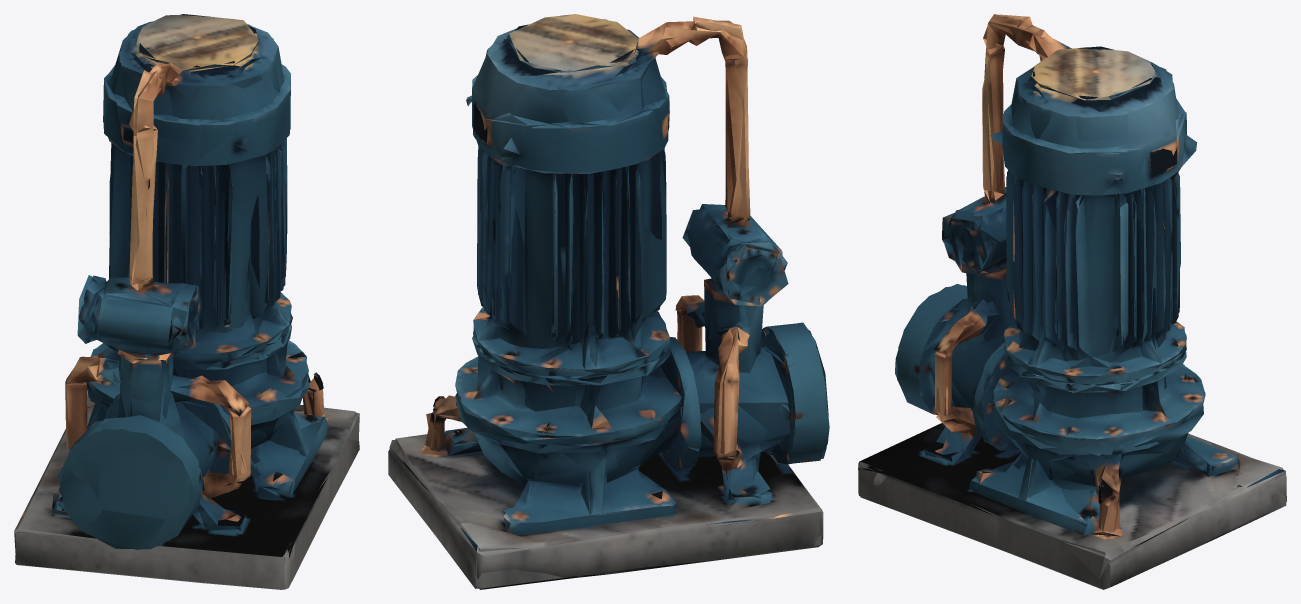
Rendered from stylized_industrial_water_pump_station_LOD2.glb.
3 views of the same model, side by side, from view 1: azimuth 30°, elevation 25°; view 2: azimuth 150°, elevation 25°; view 3: azimuth 270°, elevation 25° (orthographic). The views are drawn at different scales.
Visible parts, largest first — view 1: stylized_industrial_water_pump_station_LOD2; view 2: stylized_industrial_water_pump_station_LOD2; view 3: stylized_industrial_water_pump_station_LOD2.
Boxes of the visible parts, x1,y1,x2,y2 form: stylized_industrial_water_pump_station_LOD2: (14,14,359,589); stylized_industrial_water_pump_station_LOD2: (388,14,829,589); stylized_industrial_water_pump_station_LOD2: (858,14,1286,589).
Bounding box in the file's own units: 1.69 × 2 × 1.7.
1 material, 1 textured.
